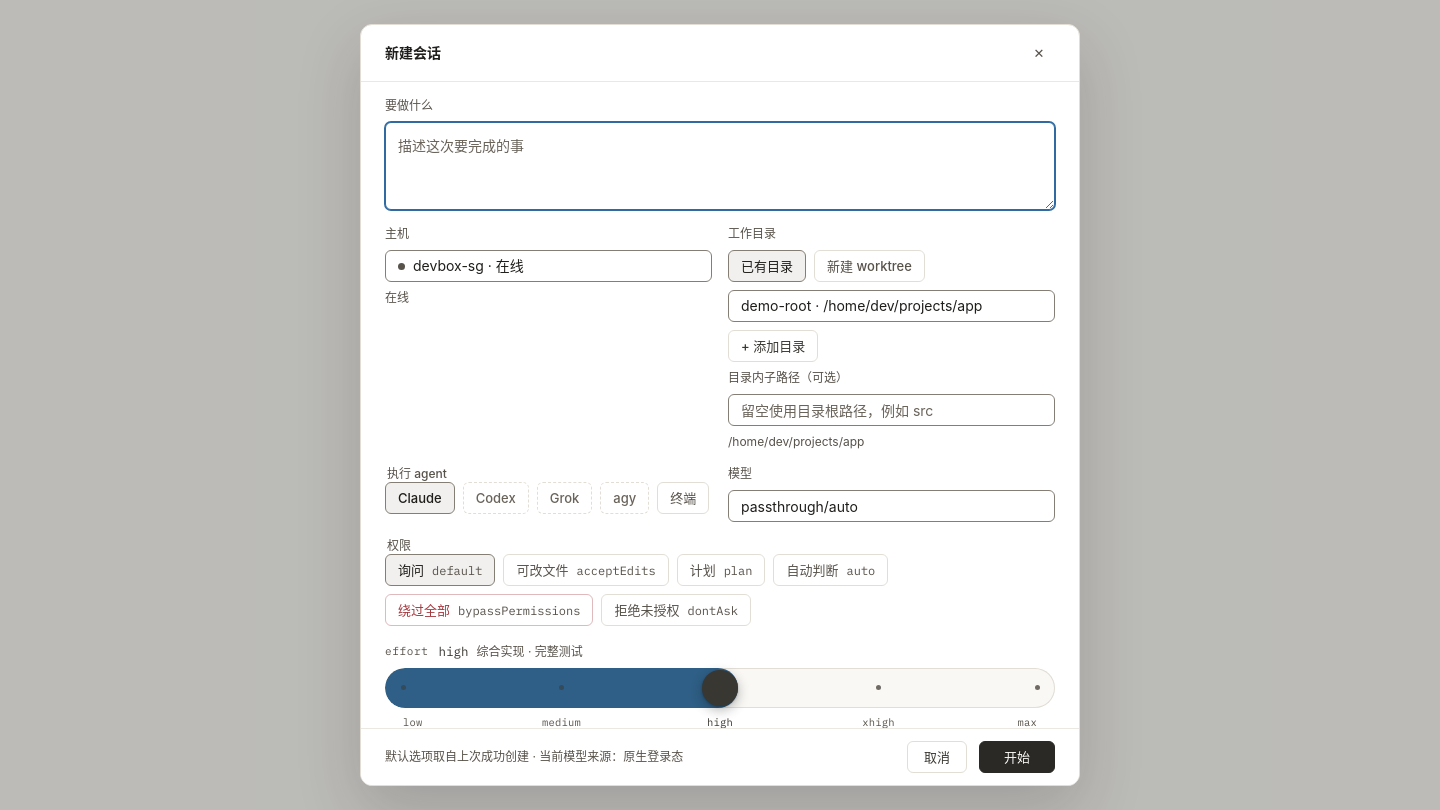
Test: blocks absolute or escaping cwd text instead of sending it to another root
In the field with test id "new-session-cwd": point(892, 410) [741,395,1042,425], type "~"
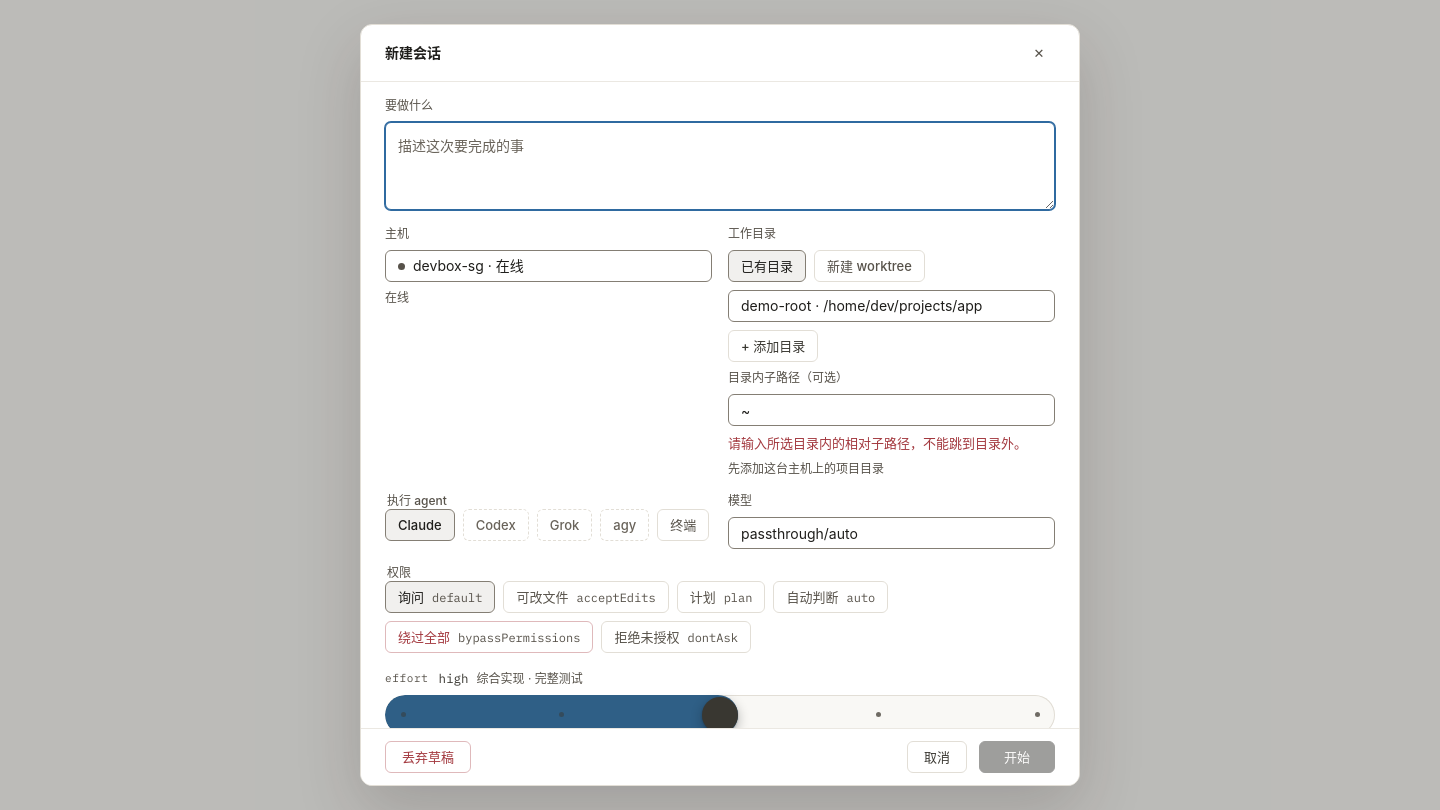
Check: the message shows "相对子路径", box [728,435,1027,451]
Check: the button with test id "new-session-start" is disabled, box [979,741,1055,773]
